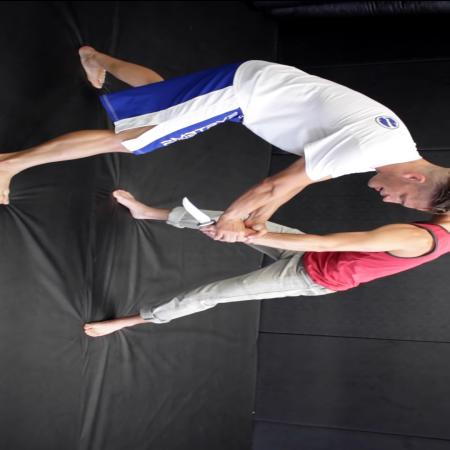long weapon: (180, 194, 224, 244)
